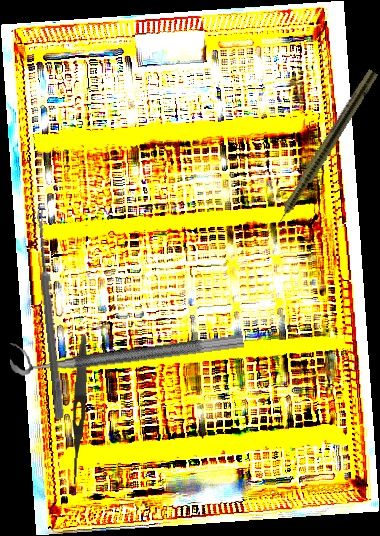Dressing Forceps: (69, 334, 90, 487)
Fixation Ring: (7, 314, 245, 378)
Handpiece: (262, 67, 380, 242)
Surgical Spoon: (33, 209, 66, 419)
